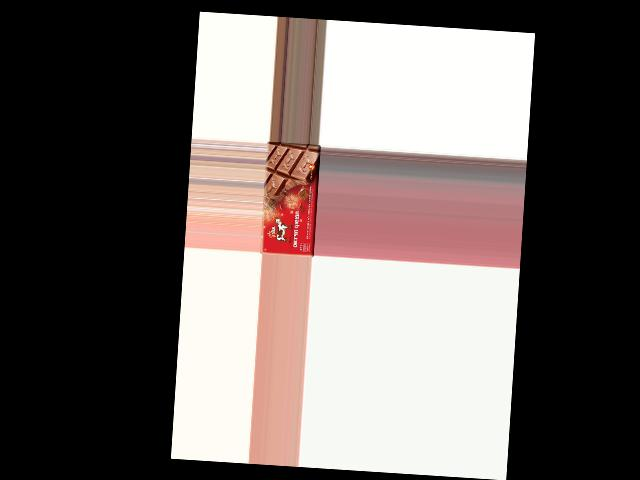chocolate: (260, 142, 320, 258)
